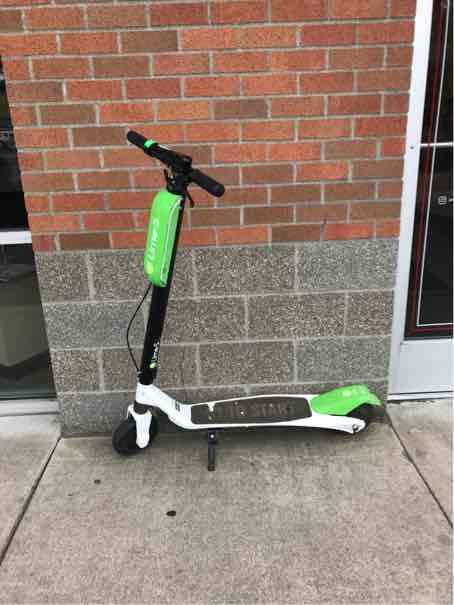scooter: (101, 118, 392, 465)
